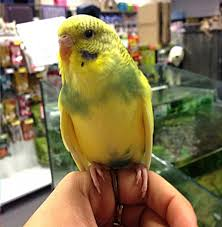budgie: (56, 13, 155, 197)
